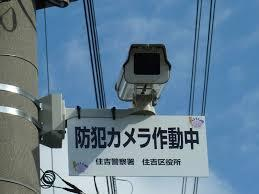tutu: (100, 29, 186, 118)
